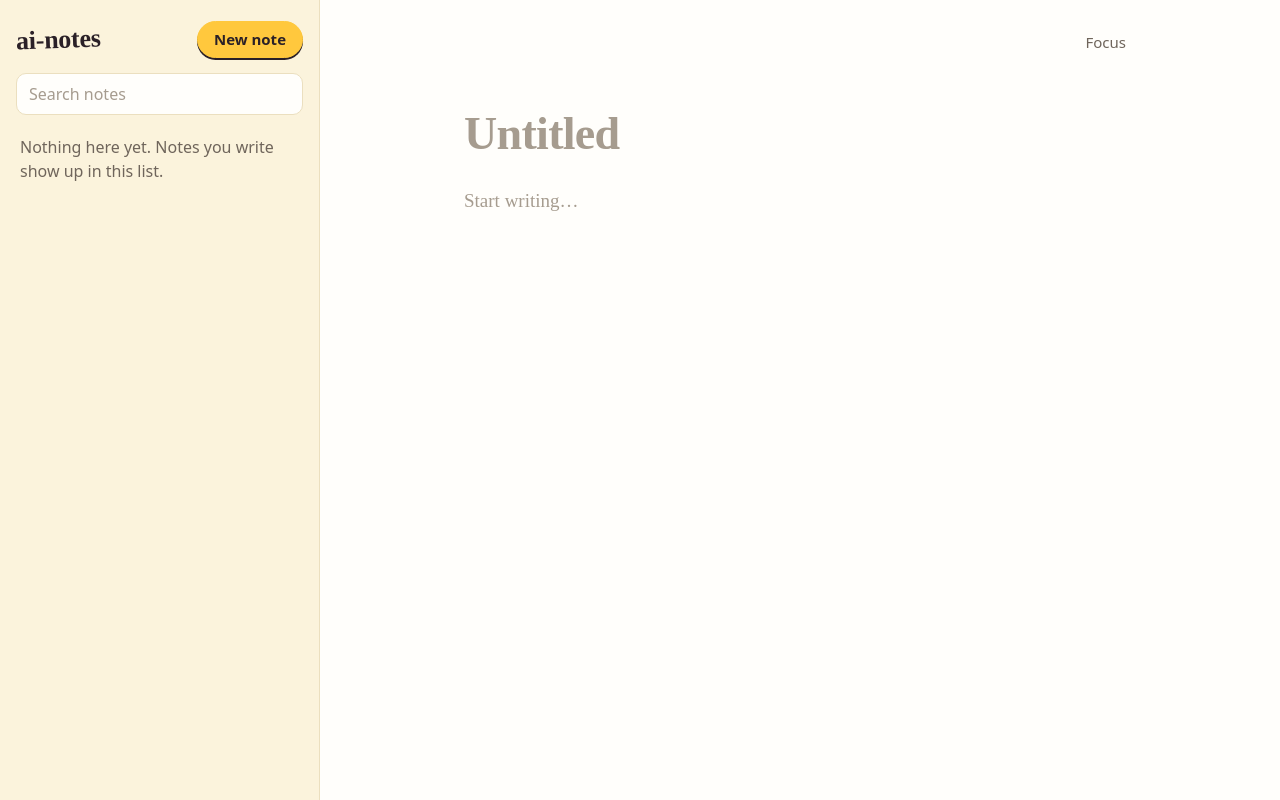
it: writing › doesn't save a note with no text
Type "Just a title" into the field labelled "title" at coordinates (800, 134), box [464,108,1136,161]
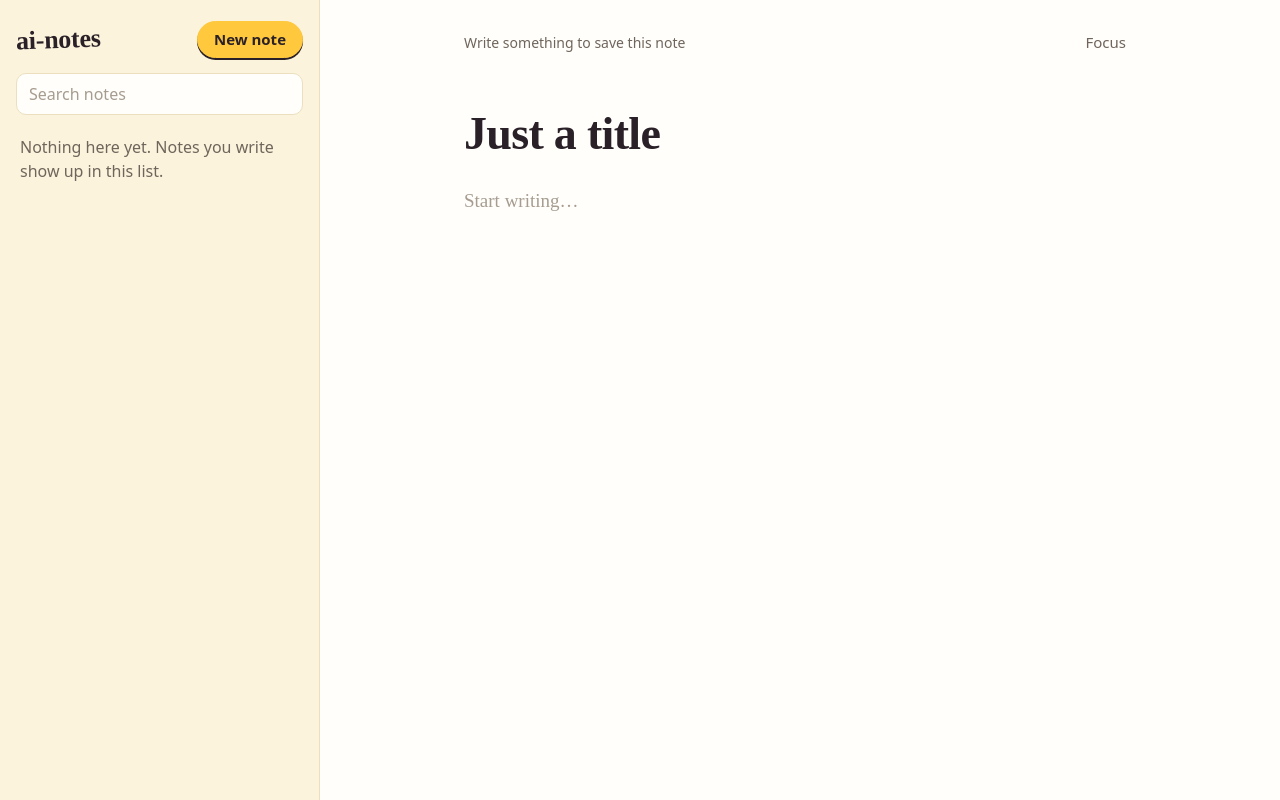
Check: the text "Write something to save this note" is shown, box [464,32,685,52]
